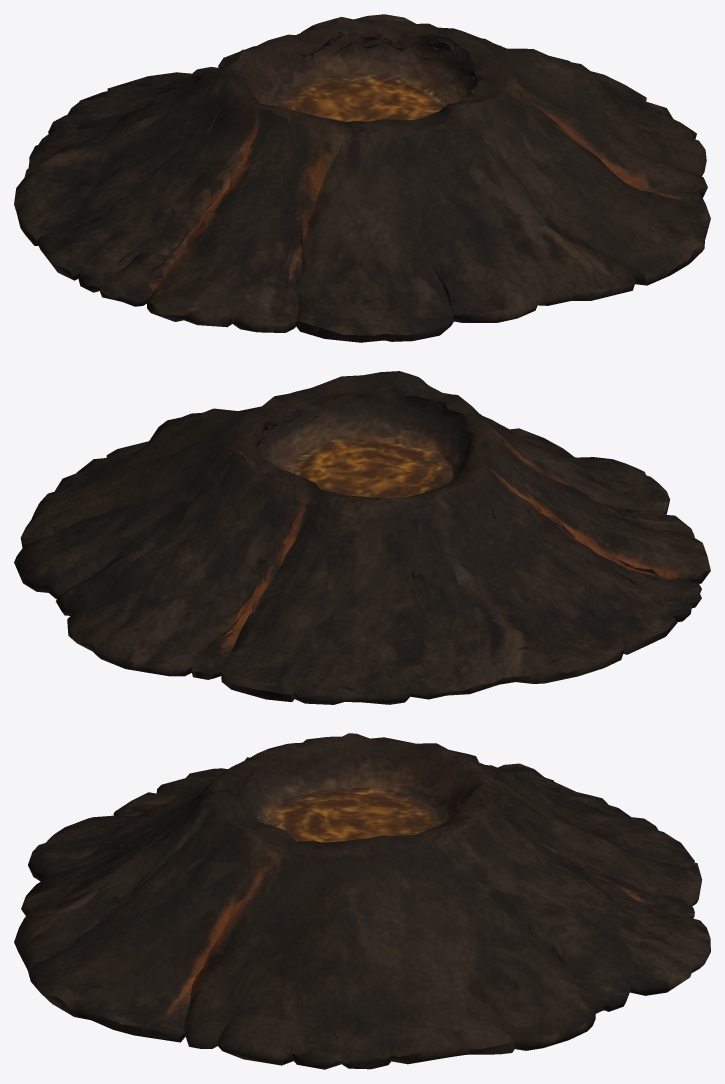
The picture shows the model from 3 angles, top to bottom: view 1: azimuth 30°, elevation 25°; view 2: azimuth 150°, elevation 25°; view 3: azimuth 270°, elevation 25°; orthographic projection. The views are drawn at different scales.
Parts seen in each view (by area): view 1: volcanic-cone.001; view 2: volcanic-cone.001; view 3: volcanic-cone.001.
Boxes of the visible parts, x1,y1,x2,y2 form: volcanic-cone.001: [14, 14, 710, 342]; volcanic-cone.001: [14, 371, 710, 704]; volcanic-cone.001: [14, 733, 710, 1069].
Size of the model in its own units: 111 by 24.03 by 107.
1 material, 1 textured.
